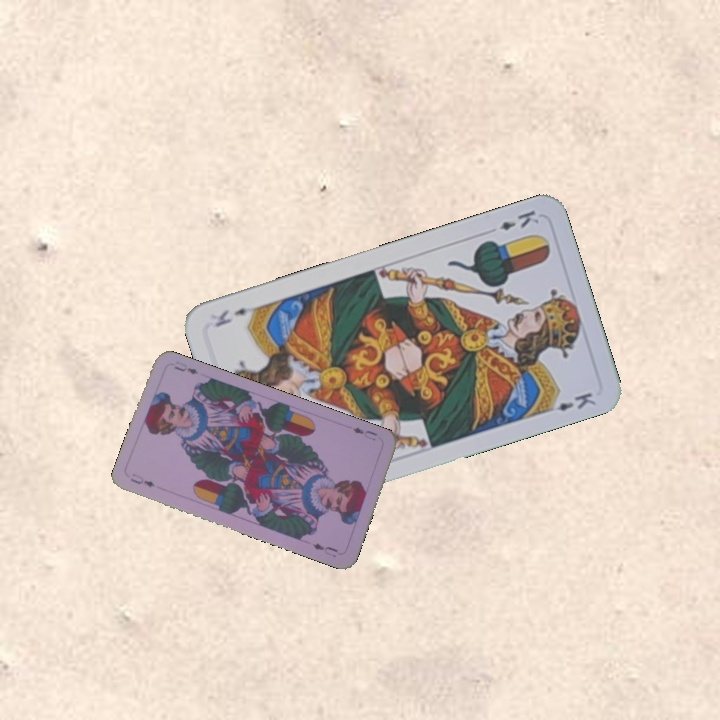EK: (496, 206, 542, 233)
EU: (126, 470, 158, 490), (349, 423, 380, 443)
